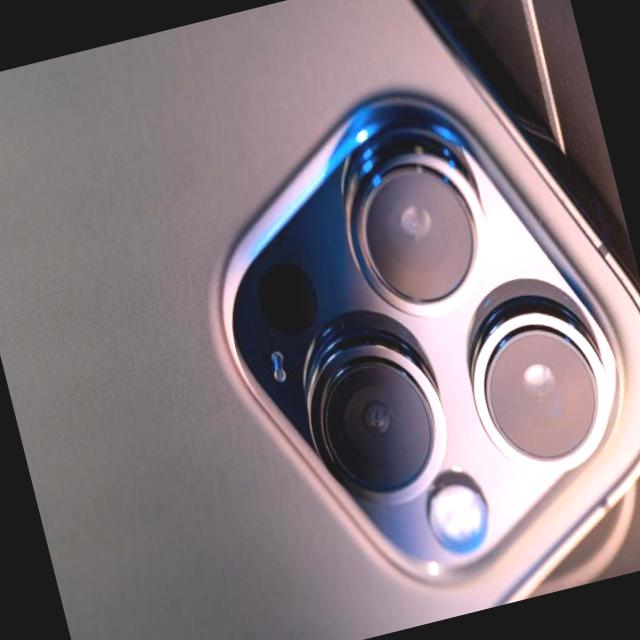lens_back: (188, 61, 640, 620)
